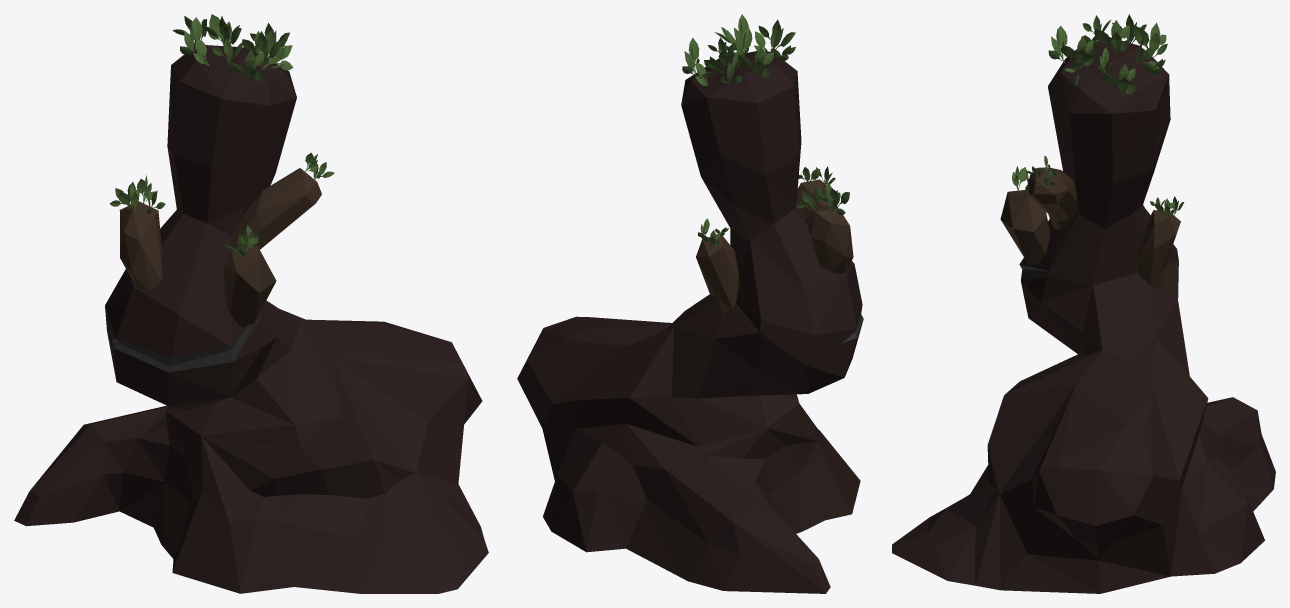
The model's file is SM_Tree_002.glb.
The picture shows the model from 3 angles, left to right: view 1: azimuth 30°, elevation 25°; view 2: azimuth 150°, elevation 25°; view 3: azimuth 270°, elevation 25°; orthographic projection. The views are drawn at different scales.
Visible parts, largest first — view 1: SM_Tree_002; view 2: SM_Tree_002; view 3: SM_Tree_002.
Boxes of the visible parts, bbox=[...] form: SM_Tree_002: bbox=[14, 14, 488, 593]; SM_Tree_002: bbox=[517, 14, 863, 593]; SM_Tree_002: bbox=[892, 14, 1275, 593].
Size of the model in its own units: 3.18 by 4.08 by 2.96.
Materials: 1 (1 with a texture image).
